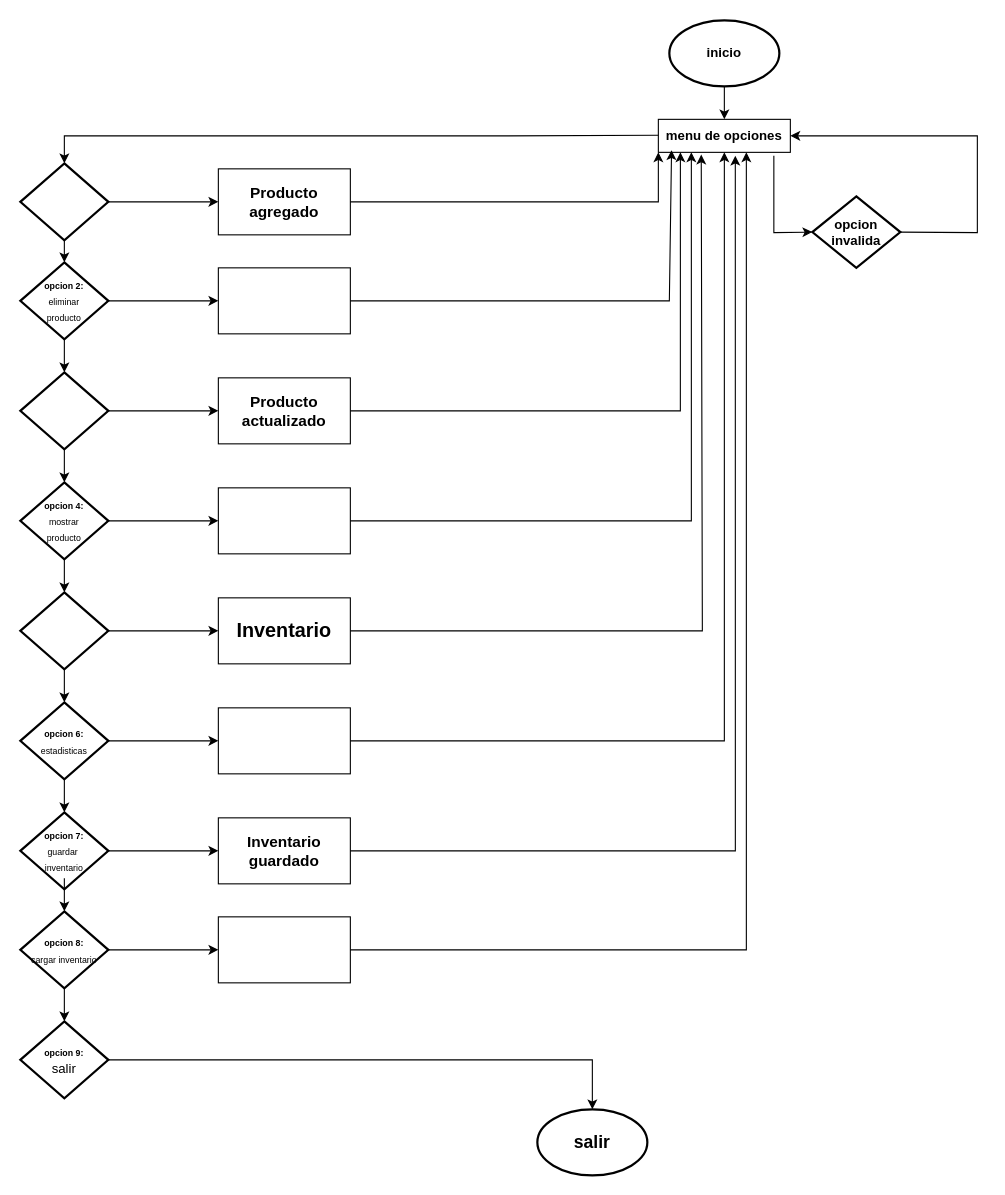
The diagram is 1005 pixels wide and 1195 high, and some of its shapes have lost their labels. The centre of each missing label's shape, as x and y in pixels:
Estadisticas: point 283,740
Inventario cargado: point 283,949
opcion 1: agregar producto: point 64,201
opcion 3: actualizar producto: point 64,410
opcion 5: mostrar inventario: point 64,630
Producto: point 283,520
Producto eliminado: point 283,300
